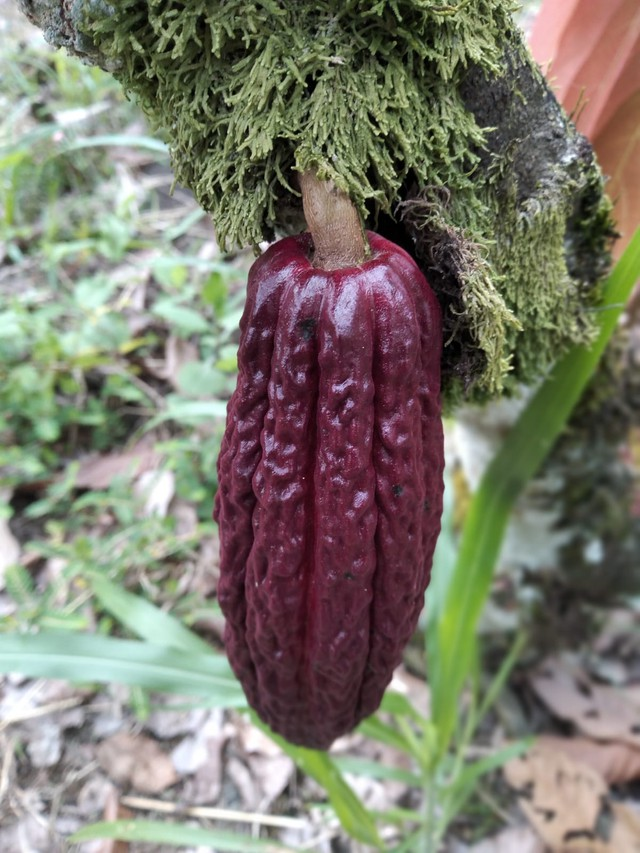Health: (172, 203, 472, 766)
